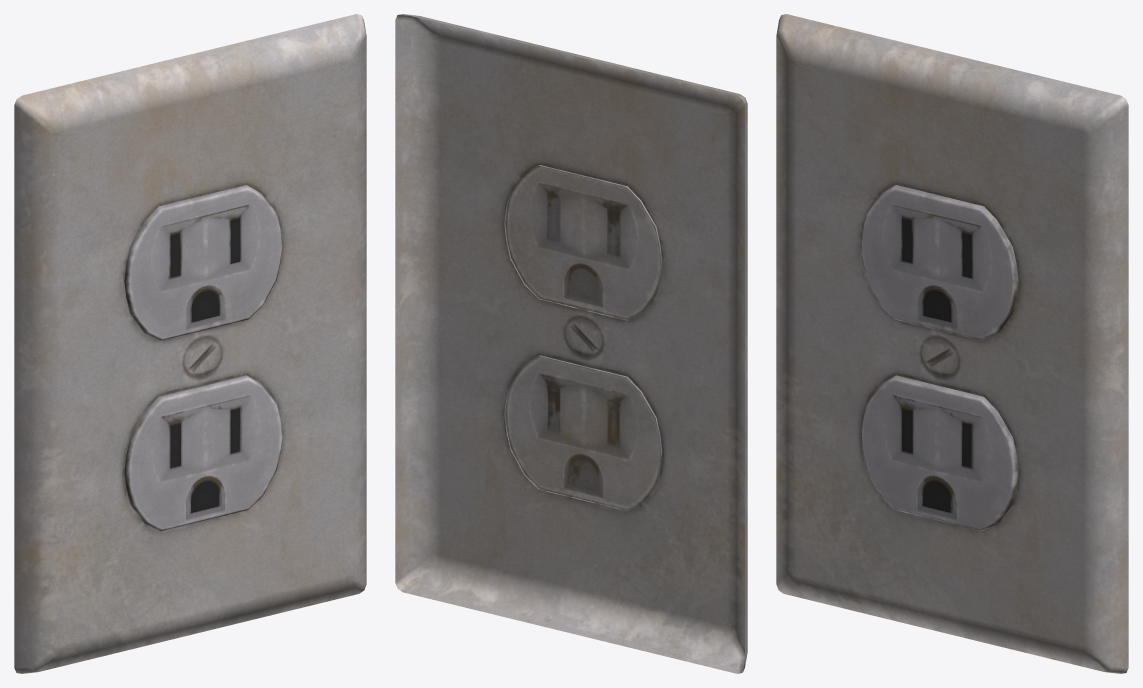
Rendered from wall_outlet_01.glb.
3 views of the same model, side by side, from view 1: azimuth 30°, elevation 25°; view 2: azimuth 150°, elevation 25°; view 3: azimuth 330°, elevation 25° (orthographic).
Parts seen in each view (by area): view 1: wall_socket; view 2: wall_socket; view 3: wall_socket.
Boxes of the visible parts, bbox=[...] form: wall_socket: bbox=[14, 14, 366, 673]; wall_socket: bbox=[395, 14, 747, 673]; wall_socket: bbox=[776, 14, 1128, 673].
Bounding box in the file's own units: 0.0684 × 0.1081 × 0.0056.
1 material, 1 textured.
